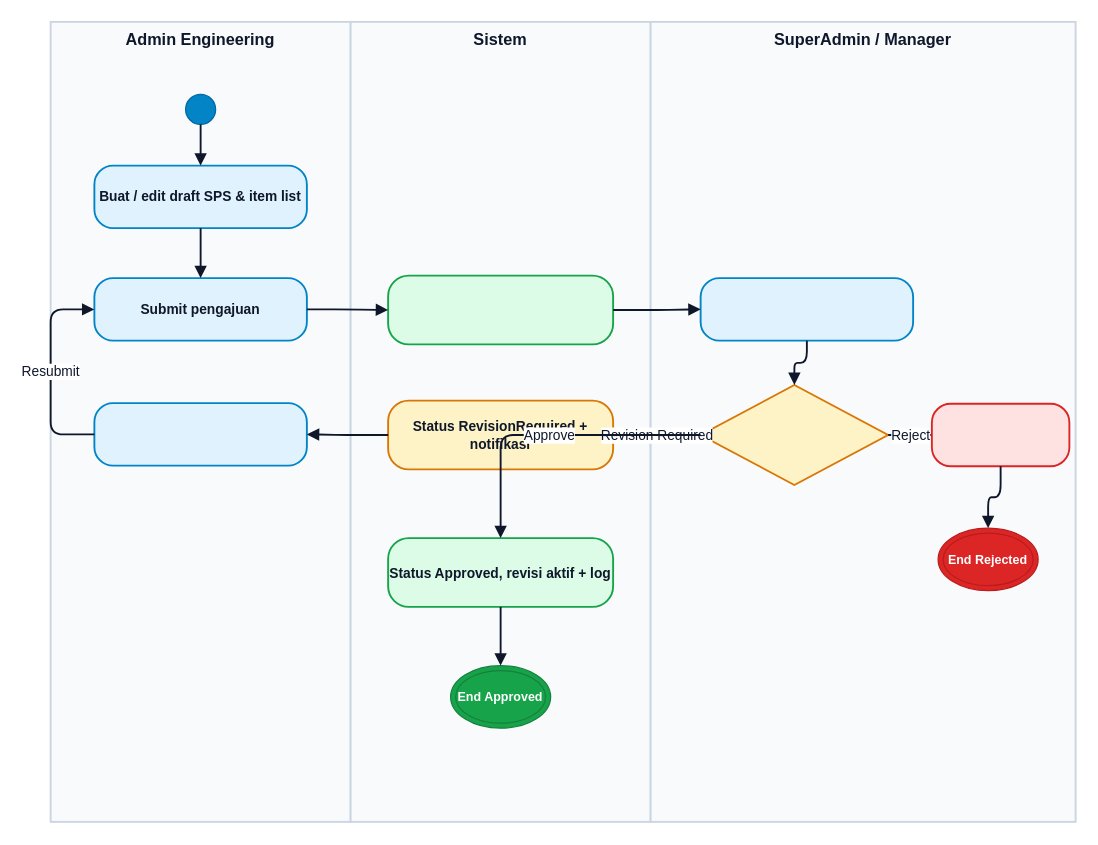
Some shapes in this 1098 by 845 pixel diagram are drawn without their labels. The shapes that lost their labels are listed below. From the top down, each one's centre as x and y in pixels, then its label:
(x=500, y=309): Buat ApprovalRequest status Pending + log
(x=806, y=309): Review SPS & item standar
(x=200, y=434): Perbaiki SPS sesuai catatan
(x=793, y=434): Keputusan?
(x=1000, y=434): Reject + alasan
